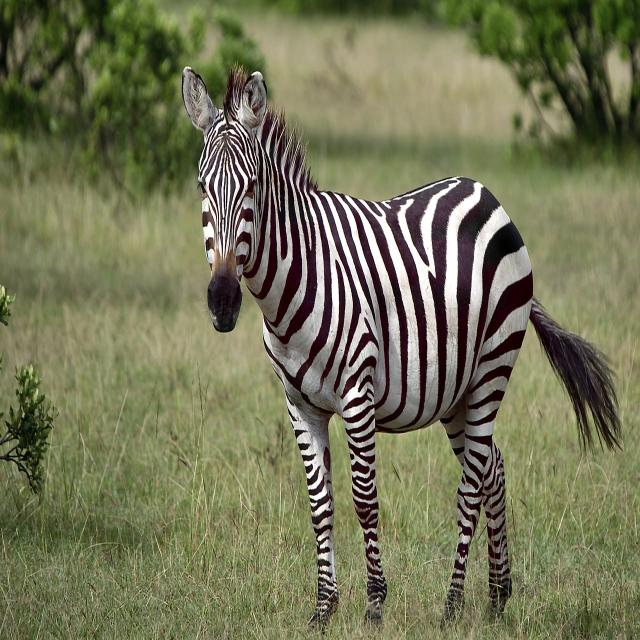Herbivorous: (180, 67, 622, 628)
